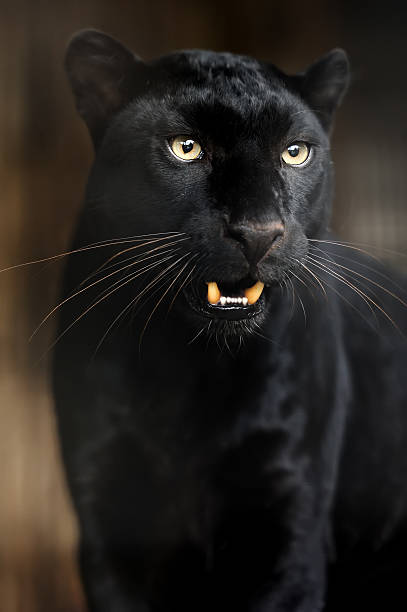panther: (36, 20, 375, 374)
